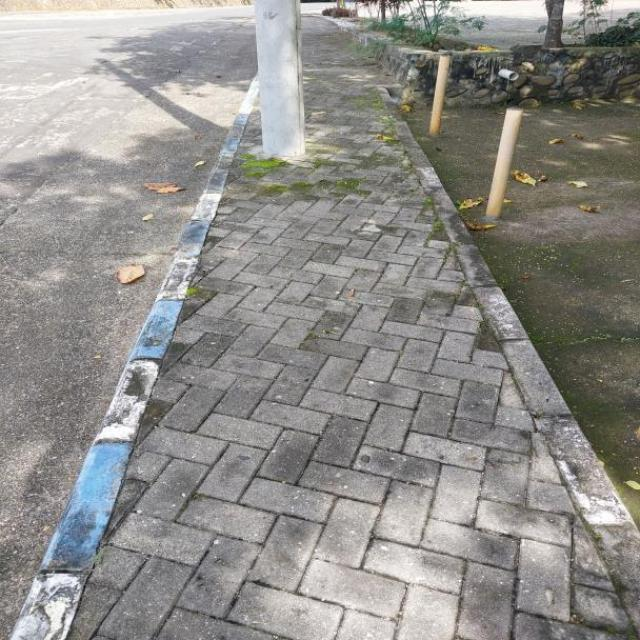barrier ahead at: (487, 97, 528, 222), (425, 44, 455, 138)
